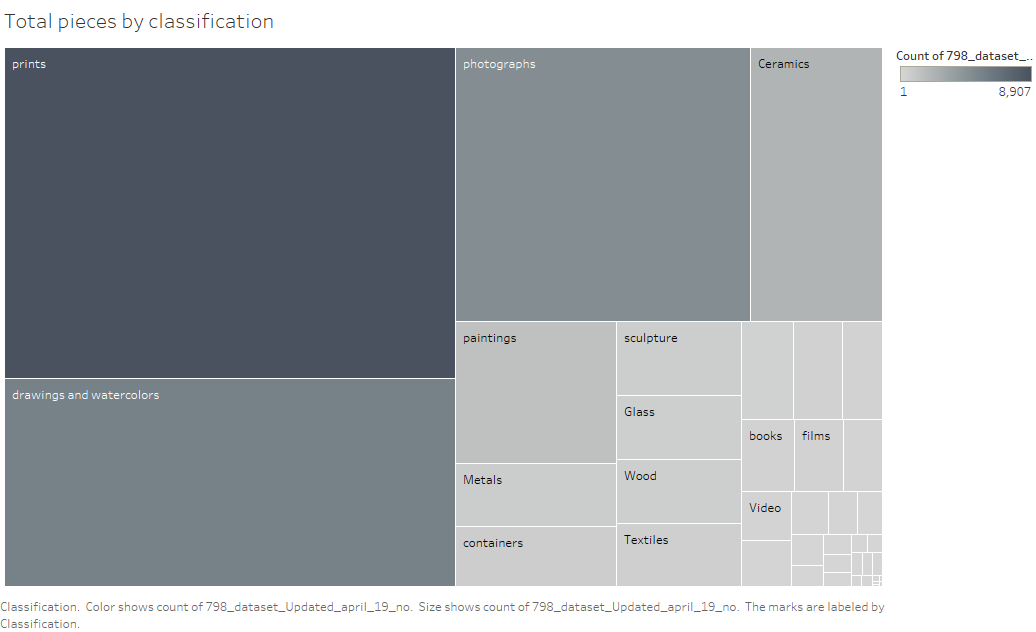

The page's visual inventory and layout, read from the dashboard file:
{"tool":"tableau","page":{"name":"Dashboard 1","canvas":[1000,800],"ordinal":0},"visuals":[{"type":"worksheet","title":"Sheet 2","mark":"Automatic","rows":["798!data!only!not!on!view!rows_52761707DF0A46CA932B8A59ADC1F"],"cols":["date_acquired"],"box":[8,8,984,784]}]}

Visuals, with their boxes on the page's 1000x800 design canvas (x1, y1, x2, y2). These are canvas units, not pixel positions in the 1036x632 screenshot, which may show the page scaled, cropped or inside an application window:
"Sheet 2" worksheet: left=8, top=8, right=992, bottom=792
